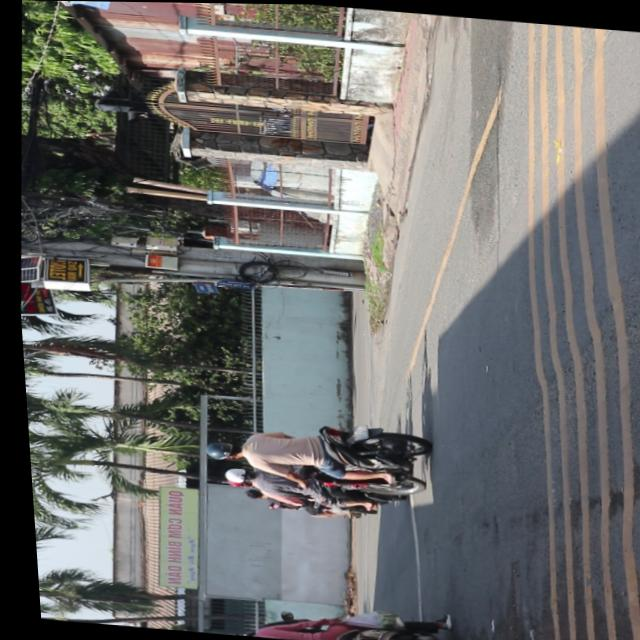helmet: (197, 436, 236, 460)
licenseplate: (192, 406, 427, 489), (200, 593, 451, 640)
nohelmet: (343, 422, 363, 439), (389, 637, 413, 640)
